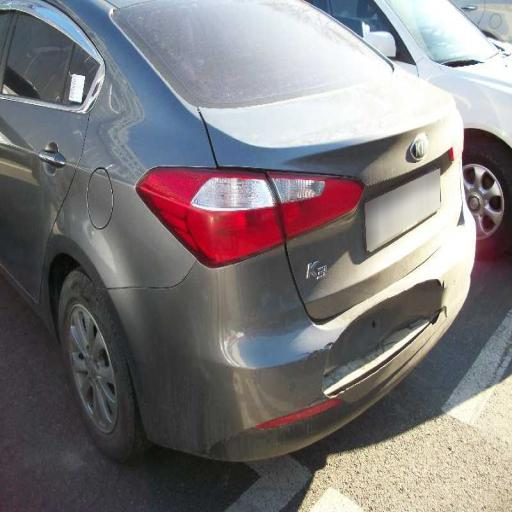dent: (288, 284, 469, 398)
scratch: (0, 55, 138, 177)
